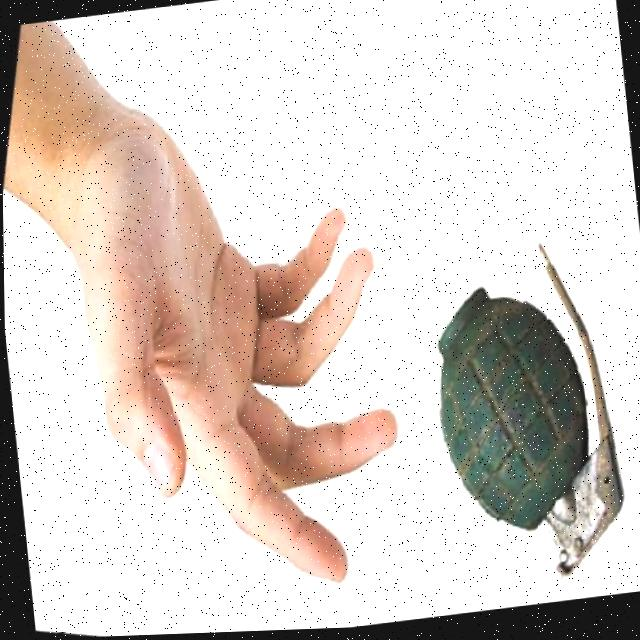grenade: (370, 202, 640, 610)
